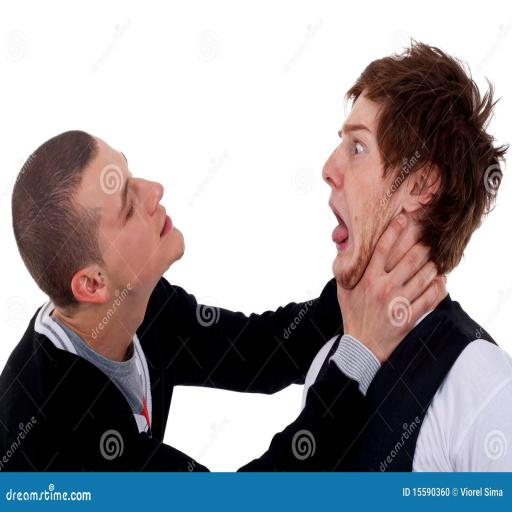fight: (13, 75, 512, 496)
